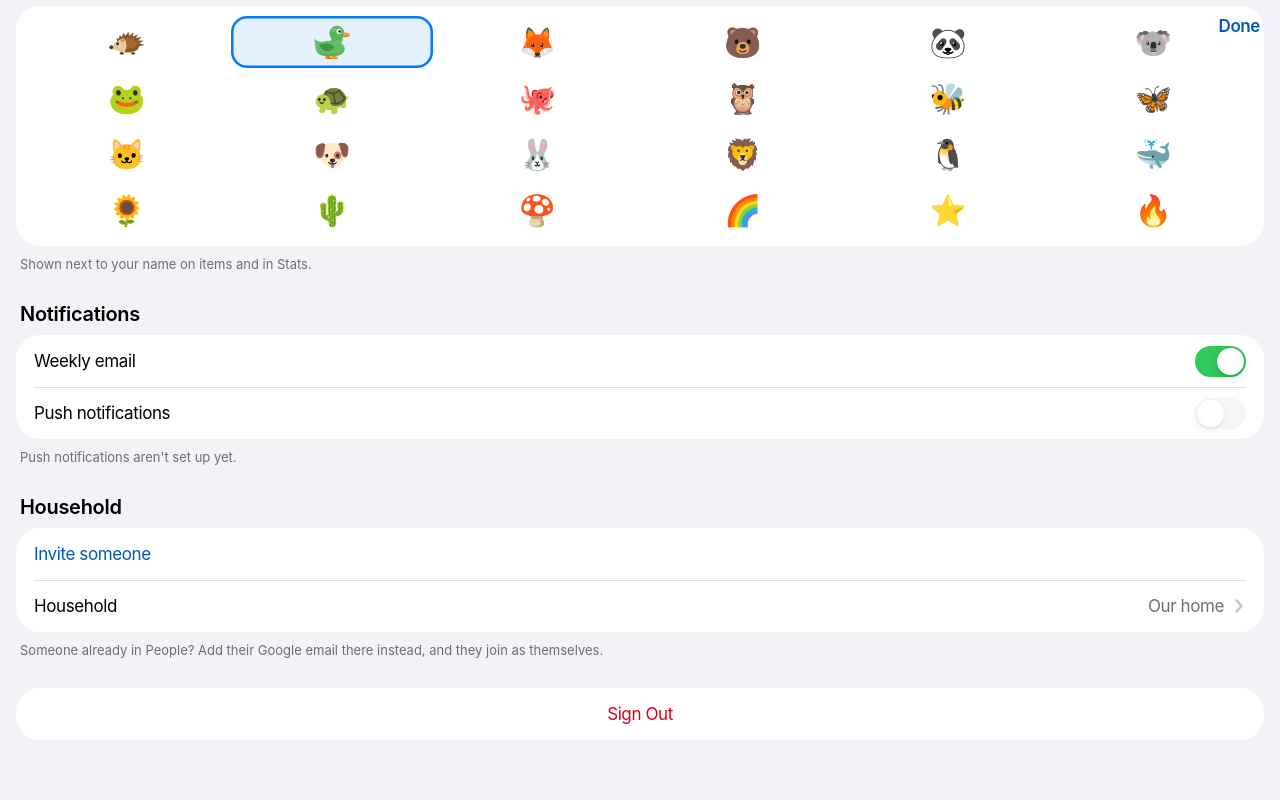
Test: Add Person › is off while the email is not one, and says so once the field is left
(page scrolled)
Click the button "Household Our home" at (75, 606), box [16,580,1264,632]
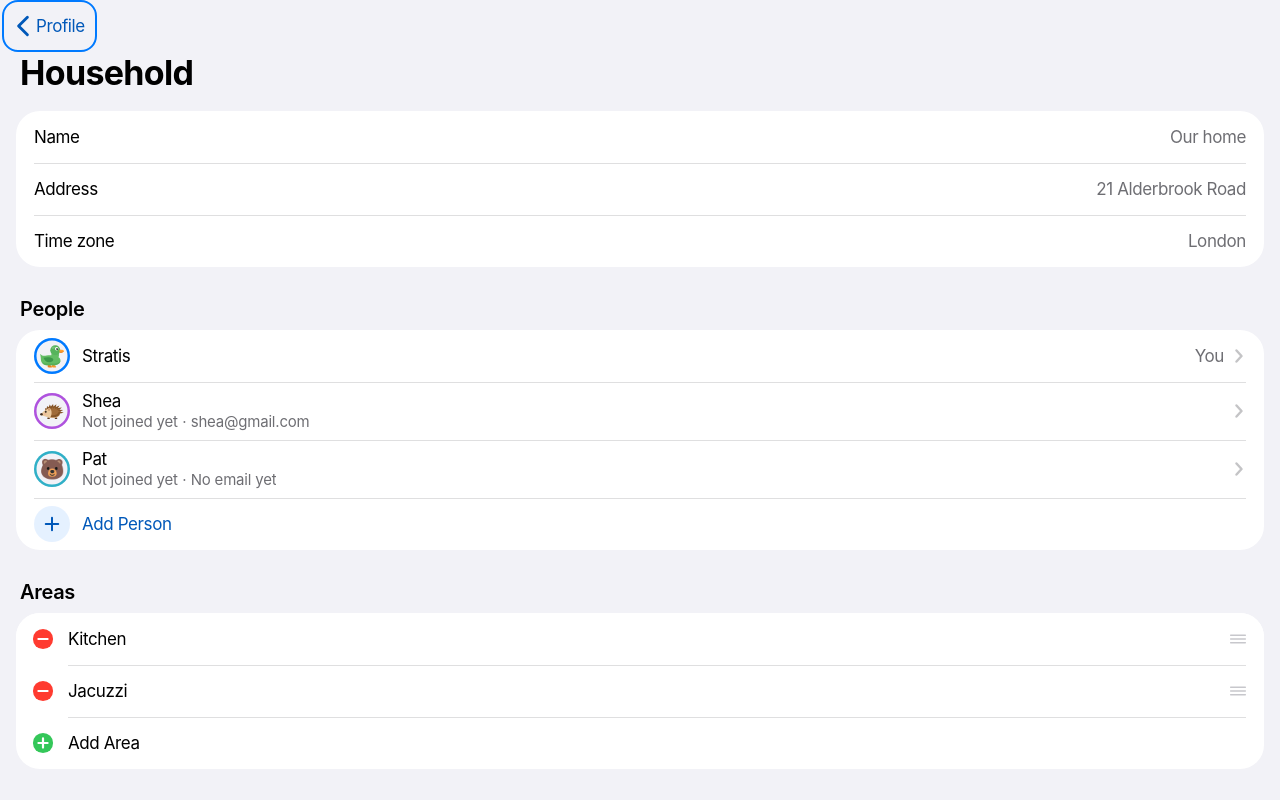
Expected: the heading "Household" is shown, [20,52,193,93]
Click the button "Add Person" at (52, 524), box [16,498,1264,550]
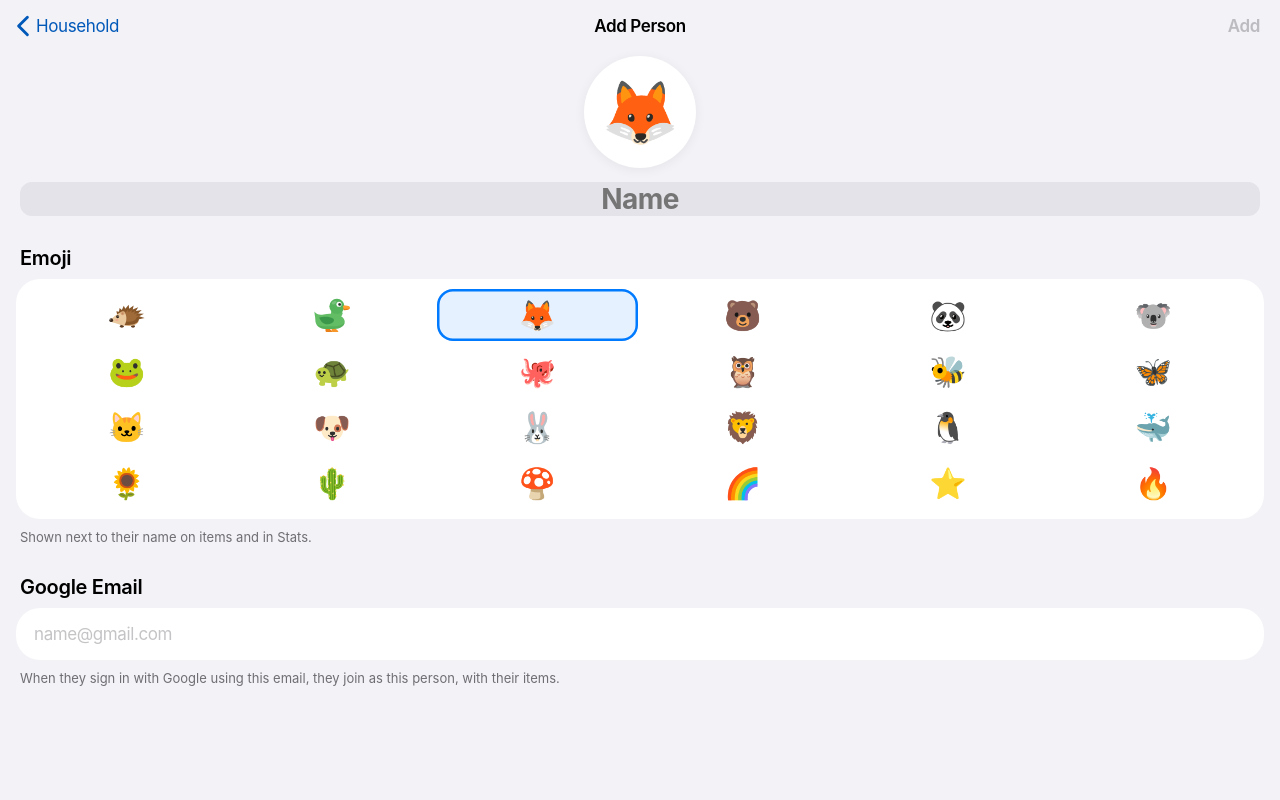
Type "Robin" into the field labelled "Name" at (640, 199), box [20,182,1260,216]
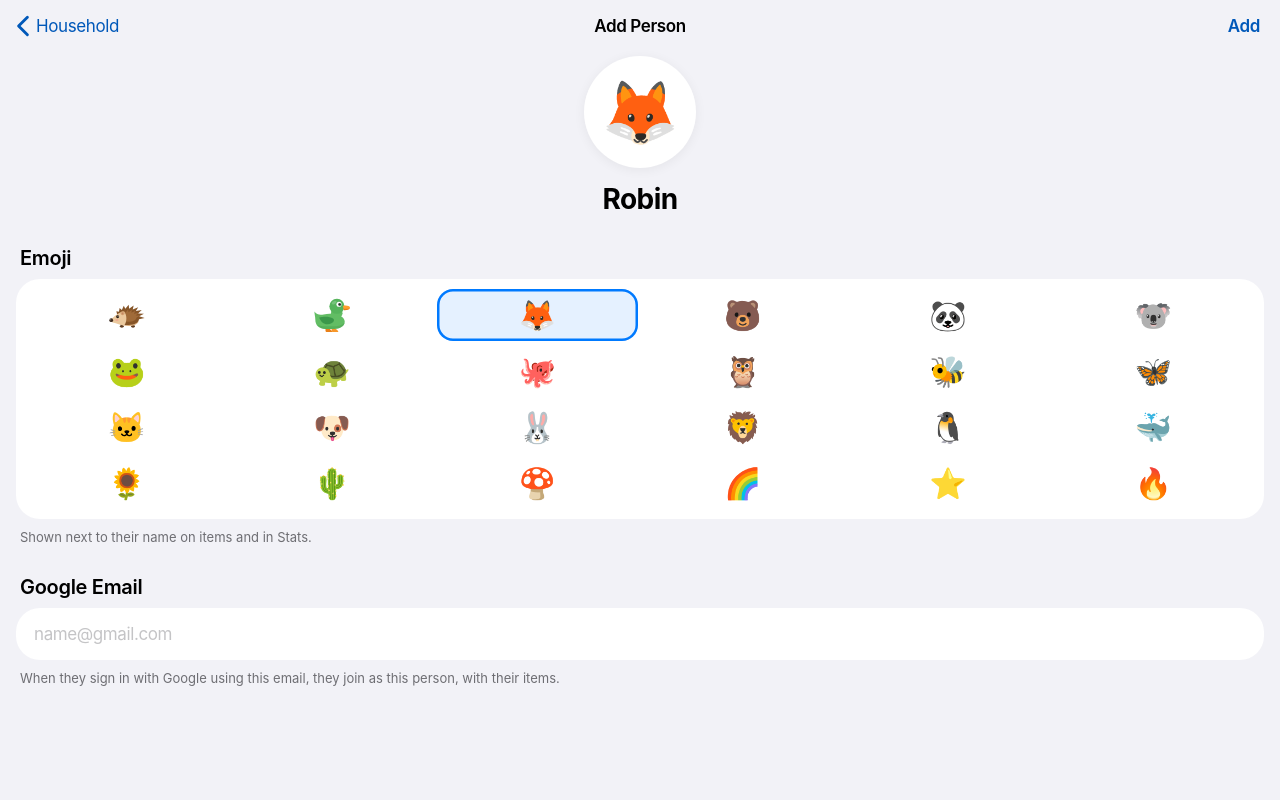
Type "robin@gmail" into the field labelled "Google Email" at (640, 634), box [34,608,1246,660]
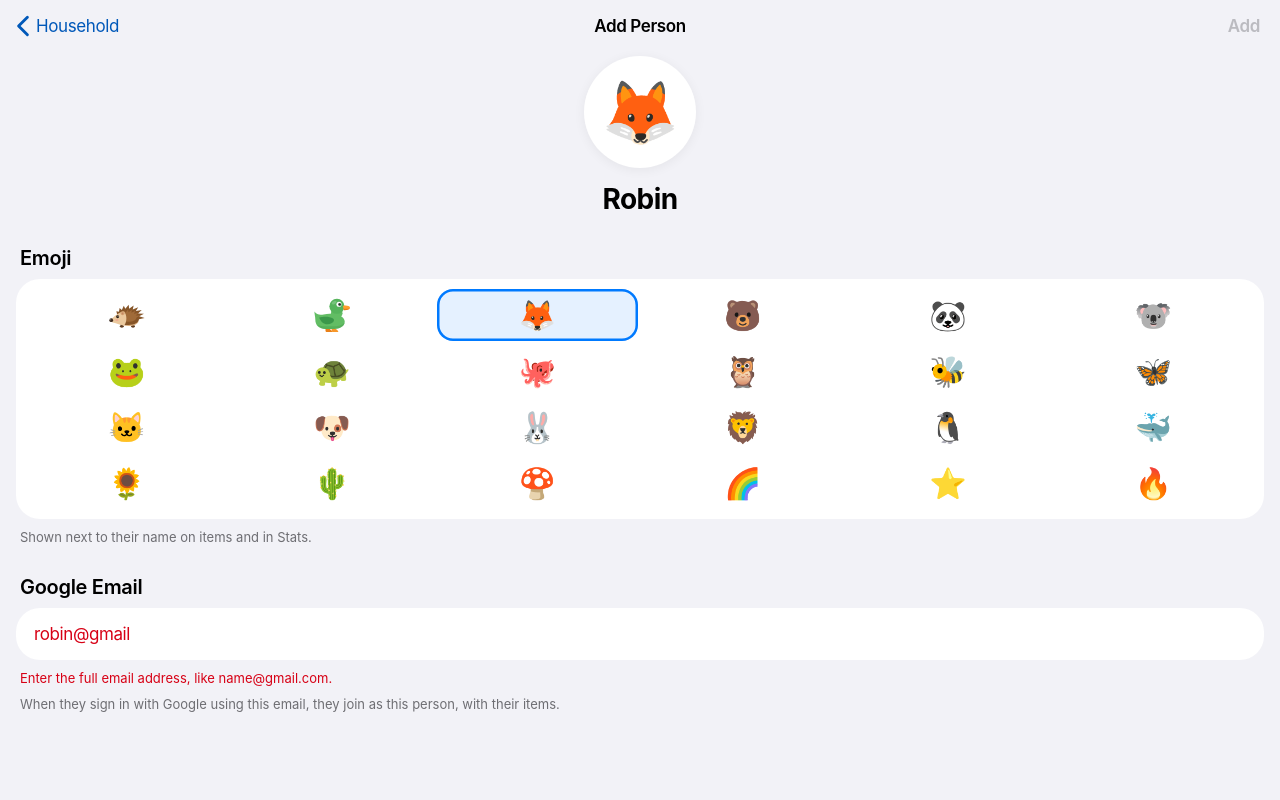
Result: the button "Add" is disabled at [1218,4,1270,48]
Result: the message reads "Enter the full email address, like name@gmail.com." at [20,670,332,686]
Replace the text in the field labelled "Google Email" with "robin@gmail.com" at (640, 634), box [34,608,1246,660]
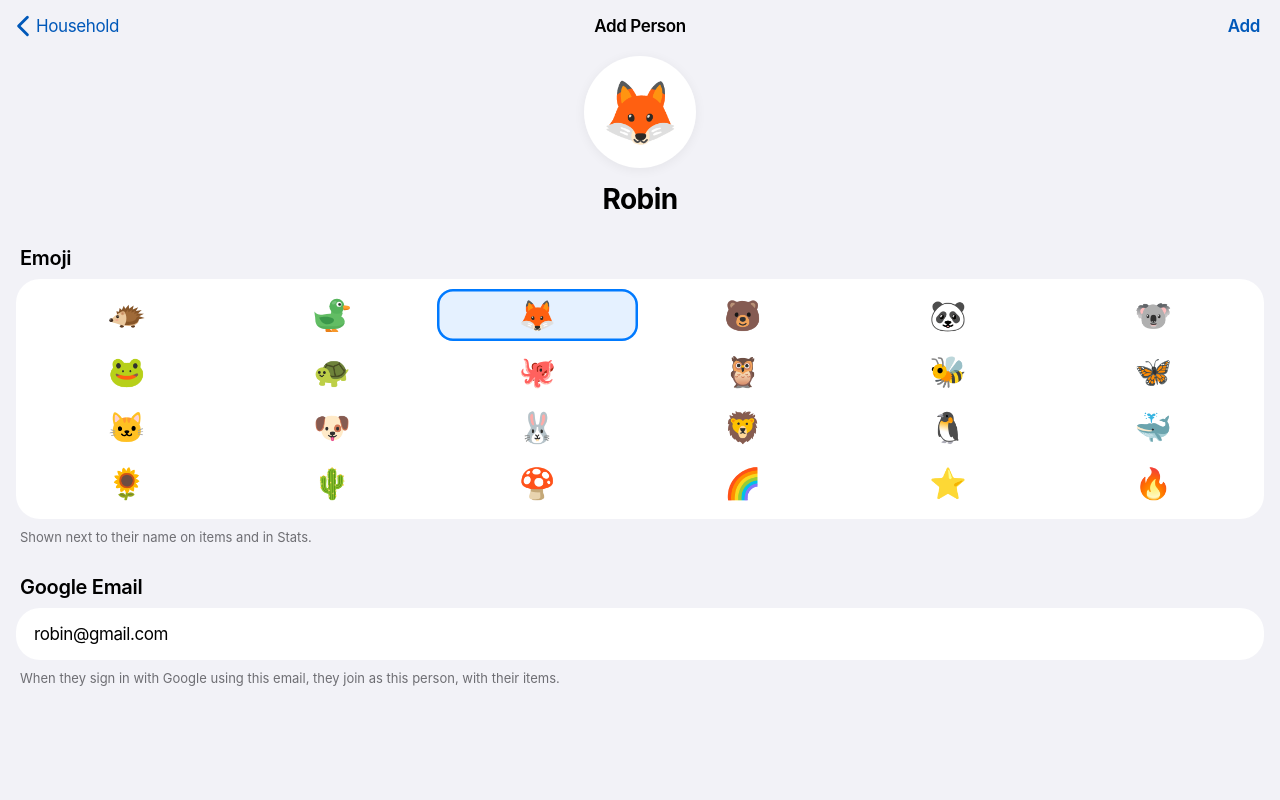
Result: the message "Enter the full email address, like name@gmail.com." is gone
Result: the button "Add" is enabled at [1218,4,1270,48]
